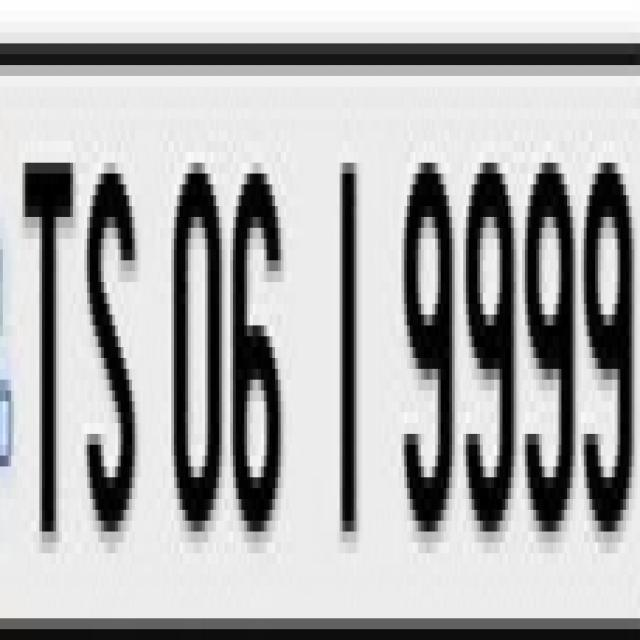0: (169, 131, 225, 544)
6: (226, 123, 286, 558)
9: (458, 124, 520, 564), (518, 128, 579, 568), (401, 122, 458, 558), (580, 131, 636, 562)
I: (332, 111, 372, 590)
S: (80, 123, 140, 568)
T: (18, 121, 78, 562)
